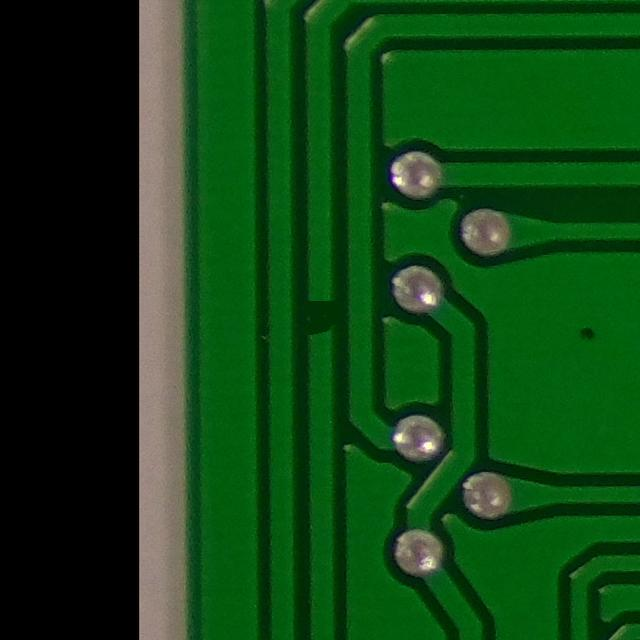open_circuit: (297, 279, 342, 362)
